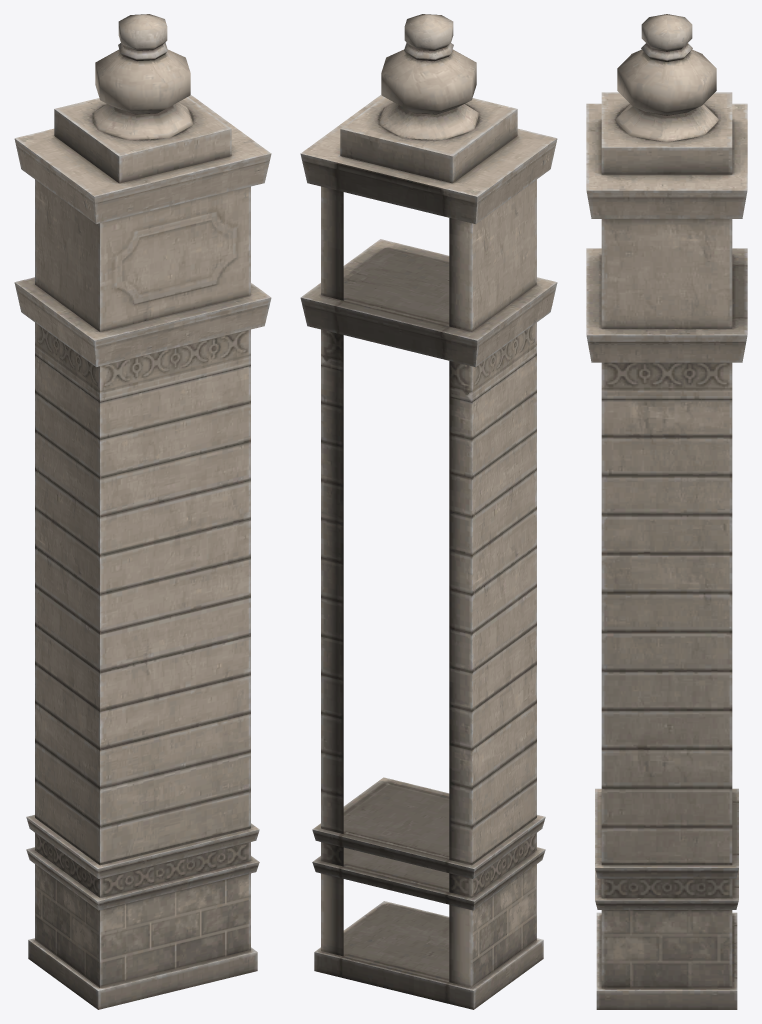
Rendered from t1_b_south_station_column.glb.
3 renders of one model, left to right at view 1: azimuth 30°, elevation 25°; view 2: azimuth 150°, elevation 25°; view 3: azimuth 270°, elevation 25°, orthographic.
Visible parts, largest first — view 1: south_station_column; view 2: south_station_column; view 3: south_station_column.
Boxes of the visible parts, left/top/right/bottom form: south_station_column: left=14, top=14, right=271, bottom=1009; south_station_column: left=300, top=14, right=557, bottom=1009; south_station_column: left=586, top=14, right=747, bottom=1009.
Bounding box in the file's own units: 1.85 × 9.47 × 1.45.
Materials: 1 (1 with a texture image).
